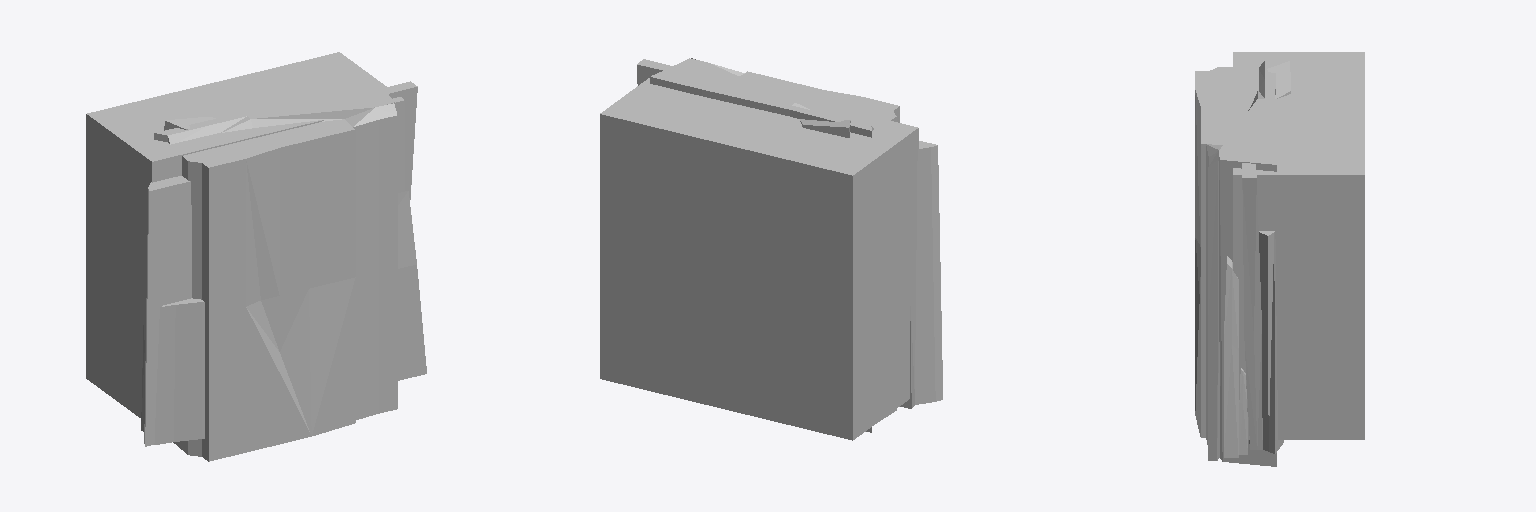
Rendered from cliff_1100_1100.obj.
The picture shows the model from 3 angles: view 1: azimuth 30°, elevation 25°; view 2: azimuth 150°, elevation 25°; view 3: azimuth 270°, elevation 25°; orthographic projection.
Parts seen in each view (by area): view 1: tile_1100_1100; view 2: tile_1100_1100; view 3: tile_1100_1100.
Part boxes in pixels (left/top/right/bottom): tile_1100_1100: left=86, top=52, right=426, bottom=461; tile_1100_1100: left=600, top=58, right=942, bottom=440; tile_1100_1100: left=1195, top=52, right=1364, bottom=466.
Size of the model in its own units: 2.26 by 2.31 by 1.16.